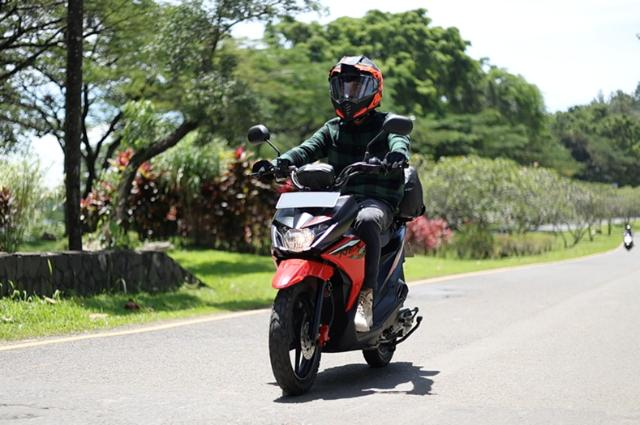helm: (327, 57, 386, 123)
motor: (249, 115, 426, 405)
